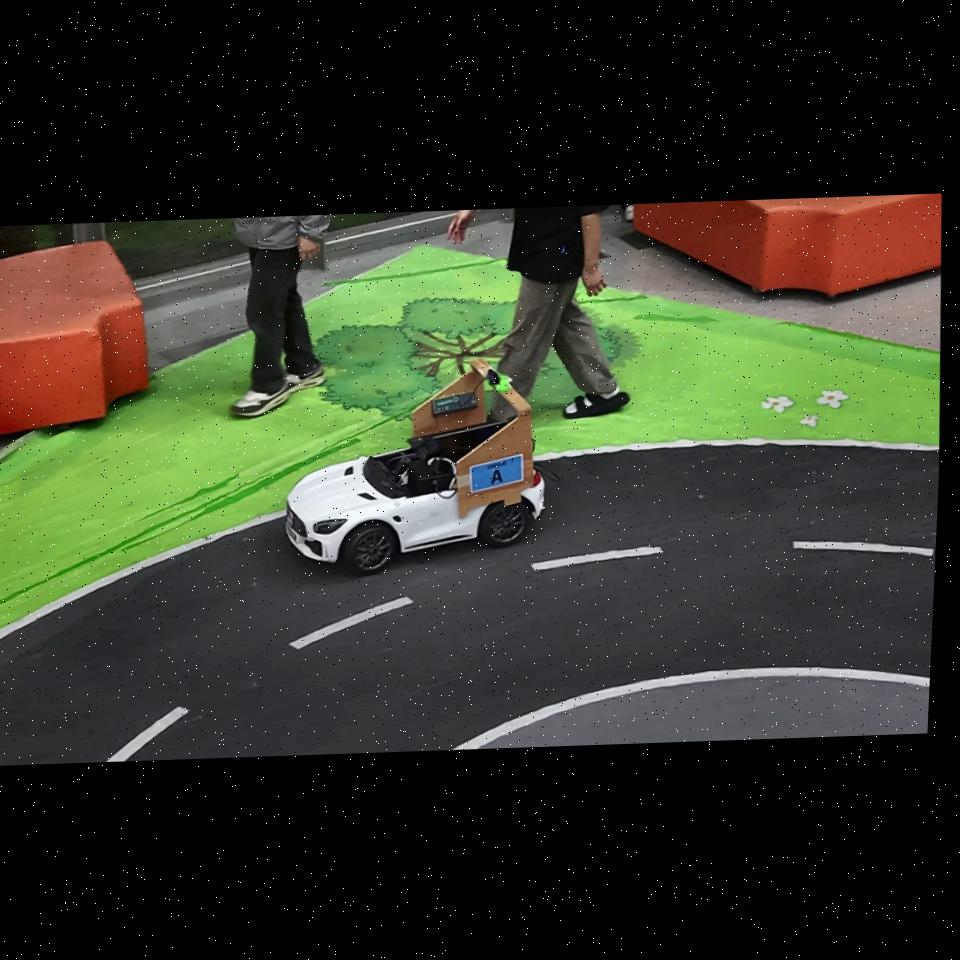broken_line: (290, 596, 414, 650), (106, 706, 190, 762), (531, 546, 663, 571), (793, 541, 934, 556)
